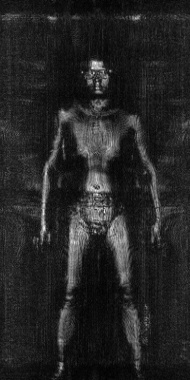gun: (137, 298, 153, 348)
